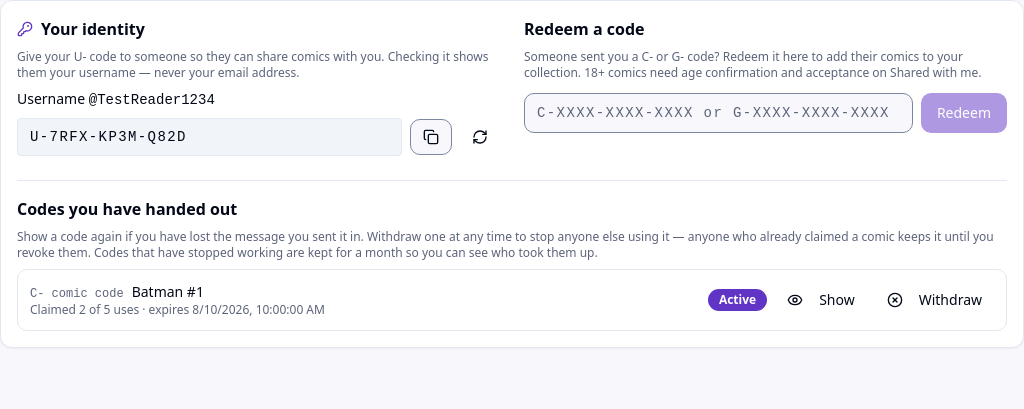
Test: reading a handed-out code back › puts it away again without asking twice
Step 1. Click the button with aria-label "show the code" → x=821, y=300, box [775,282,867,318]
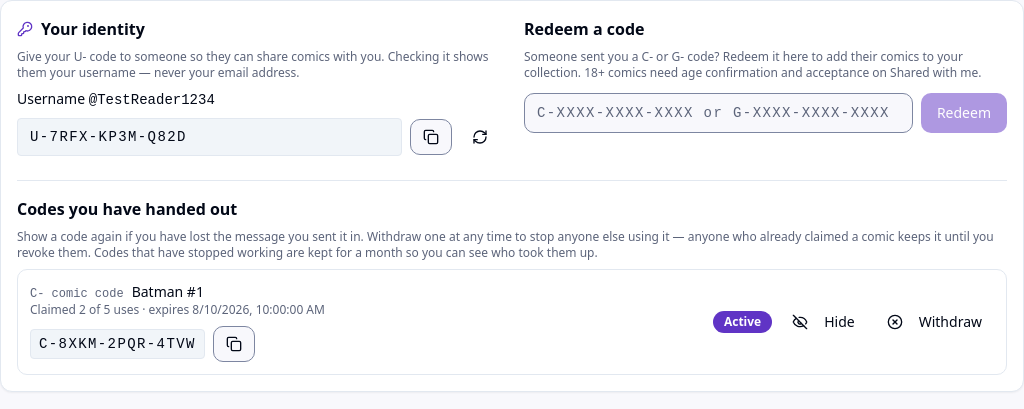
expect the text "C-8XKM-2PQR-4TVW" is shown: met, box [30,329,205,359]
Step 2. Click the button with aria-label "hide the code" → x=823, y=322, box [780,304,867,340]
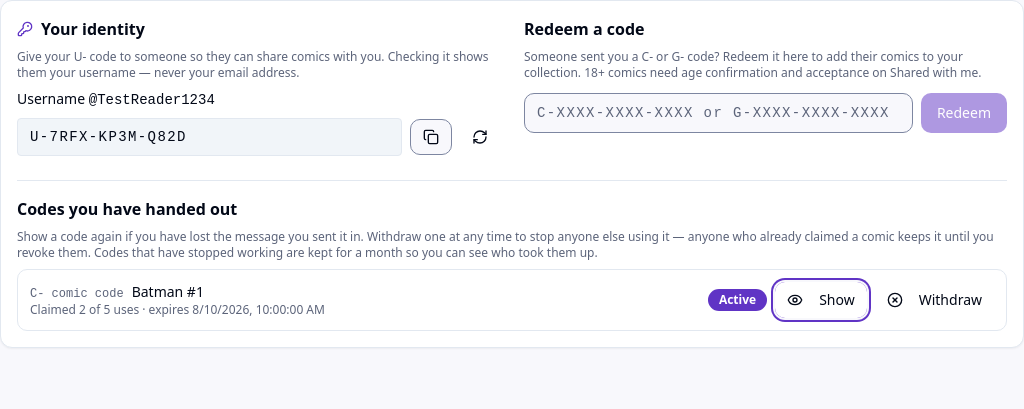
expect the text "C-8XKM-2PQR-4TVW" is gone: met
